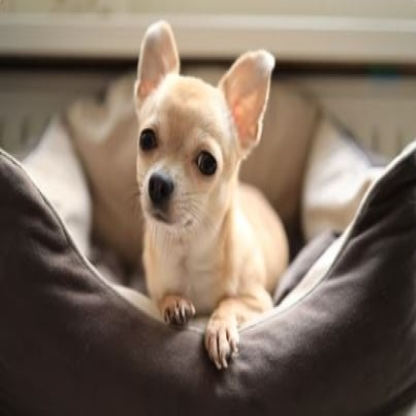chihuahua: (128, 17, 295, 376)
